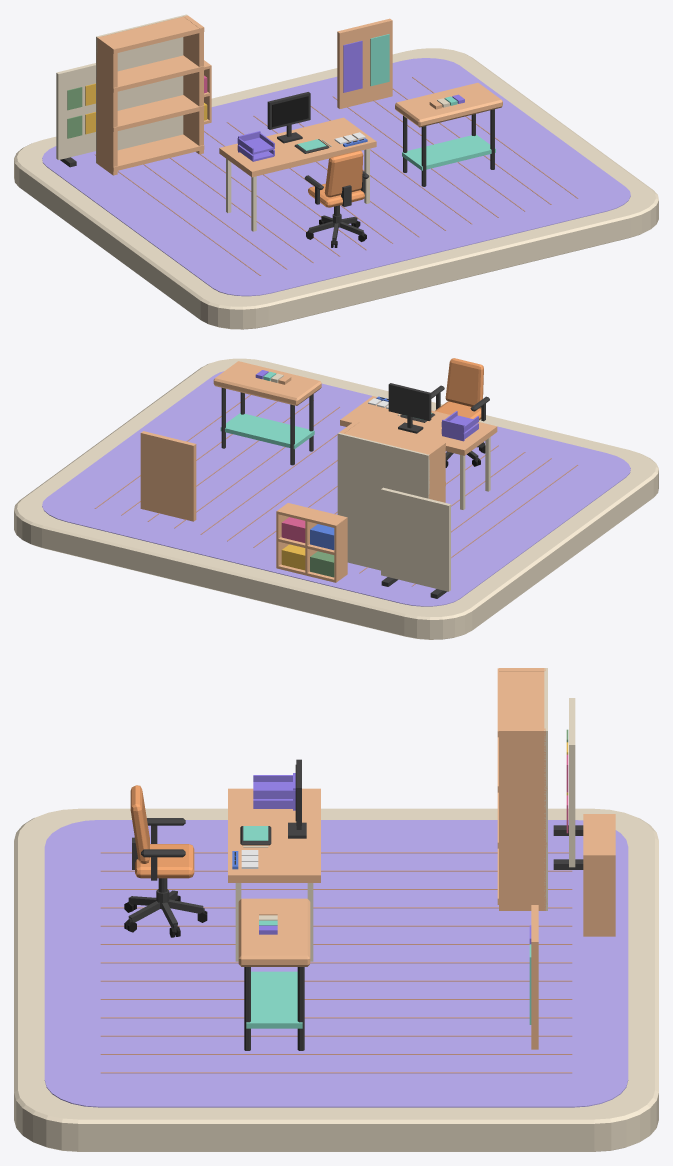
The model's file is room.fbx.
3 renders of one model, top to bottom at view 1: azimuth 30°, elevation 25°; view 2: azimuth 150°, elevation 25°; view 3: azimuth 270°, elevation 25°, orthographic. The views are drawn at different scales.
Parts seen in each view (by area): view 1: COM-02 Floor Surface, COM-01 Rounded Base Direct, Top, Back, COM-04_Chair_blender_direct, Side, Design board, Panel, Worktop, Side.001, Shelf.003, Lower shelf (+6 smaller); view 2: COM-02 Floor Surface, COM-01 Rounded Base Direct, Back, Panel, Design board, Top, COM-04_Chair_blender_direct, Worktop, Lower shelf, Frame, Shelf.003, Side (+6 smaller); view 3: COM-02 Floor Surface, COM-01 Rounded Base Direct, Side.001, Top, COM-04_Chair_blender_direct, Worktop, Shelf.003, Lower shelf, Cubbies divider.002, Cubbies shelf.002, Panel, Design board (+8 smaller).
Boxes of the visible parts, bbox=[...] form: COM-02 Floor Surface: bbox=[42, 58, 630, 296]; COM-01 Rounded Base Direct: bbox=[14, 48, 658, 329]; Top: bbox=[219, 117, 376, 231]; Back: bbox=[96, 14, 187, 162]; COM-04_Chair_blender_direct: bbox=[304, 150, 369, 247]; Side: bbox=[96, 36, 117, 175]; Design board: bbox=[337, 18, 392, 108]; Panel: bbox=[56, 63, 95, 159]; Worktop: bbox=[395, 82, 502, 127]; Side.001: bbox=[183, 15, 203, 154]; Shelf.003: bbox=[102, 16, 204, 53]; Lower shelf: bbox=[402, 134, 495, 170]; COM-02 Floor Surface: bbox=[42, 371, 630, 606]; COM-01 Rounded Base Direct: bbox=[14, 358, 658, 639]; Back: bbox=[337, 432, 429, 570]; Panel: bbox=[381, 487, 450, 591]; Design board: bbox=[140, 431, 196, 521]; Top: bbox=[340, 396, 497, 509]; COM-04_Chair_blender_direct: bbox=[431, 358, 489, 467]; Worktop: bbox=[213, 361, 321, 405]; Lower shelf: bbox=[220, 413, 314, 449]; Frame: bbox=[388, 383, 431, 433]; Shelf.003: bbox=[344, 421, 445, 459]; Side: bbox=[425, 442, 445, 502]; COM-02 Floor Surface: bbox=[44, 820, 628, 1107]; COM-01 Rounded Base Direct: bbox=[14, 808, 658, 1151]; Side.001: bbox=[499, 728, 545, 910]; Top: bbox=[228, 788, 320, 961]; COM-04_Chair_blender_direct: bbox=[124, 785, 207, 937]; Worktop: bbox=[238, 898, 310, 966]; Shelf.003: bbox=[497, 668, 544, 737]; Lower shelf: bbox=[246, 971, 302, 1028]; Cubbies divider.002: bbox=[583, 855, 615, 936]; Cubbies shelf.002: bbox=[583, 814, 615, 855]; Panel: bbox=[569, 698, 575, 867]; Design board: bbox=[531, 905, 538, 1049].
Size of the model in its own units: 600 by 190 by 520.
